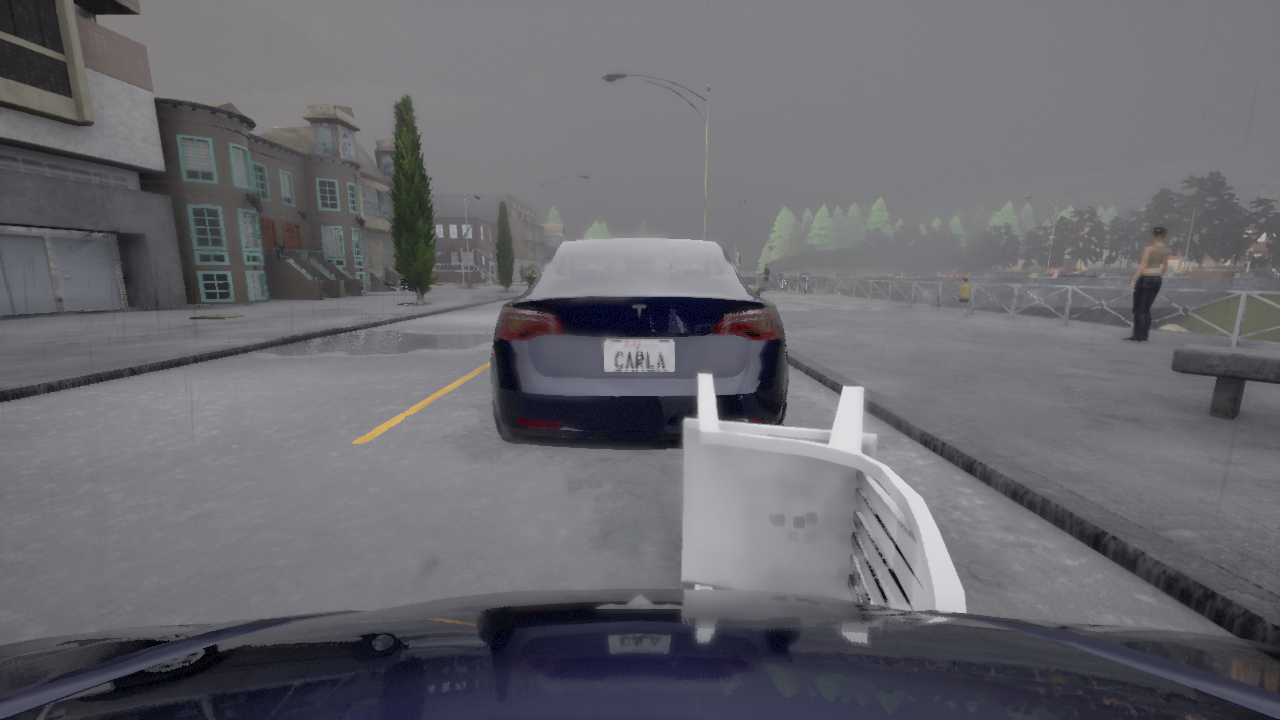cyclist: (0, 588, 1279, 719), (491, 239, 788, 448), (943, 268, 1000, 277), (1057, 270, 1103, 277)
pedestrian: (1122, 226, 1170, 342), (955, 277, 972, 317), (762, 263, 770, 290)
